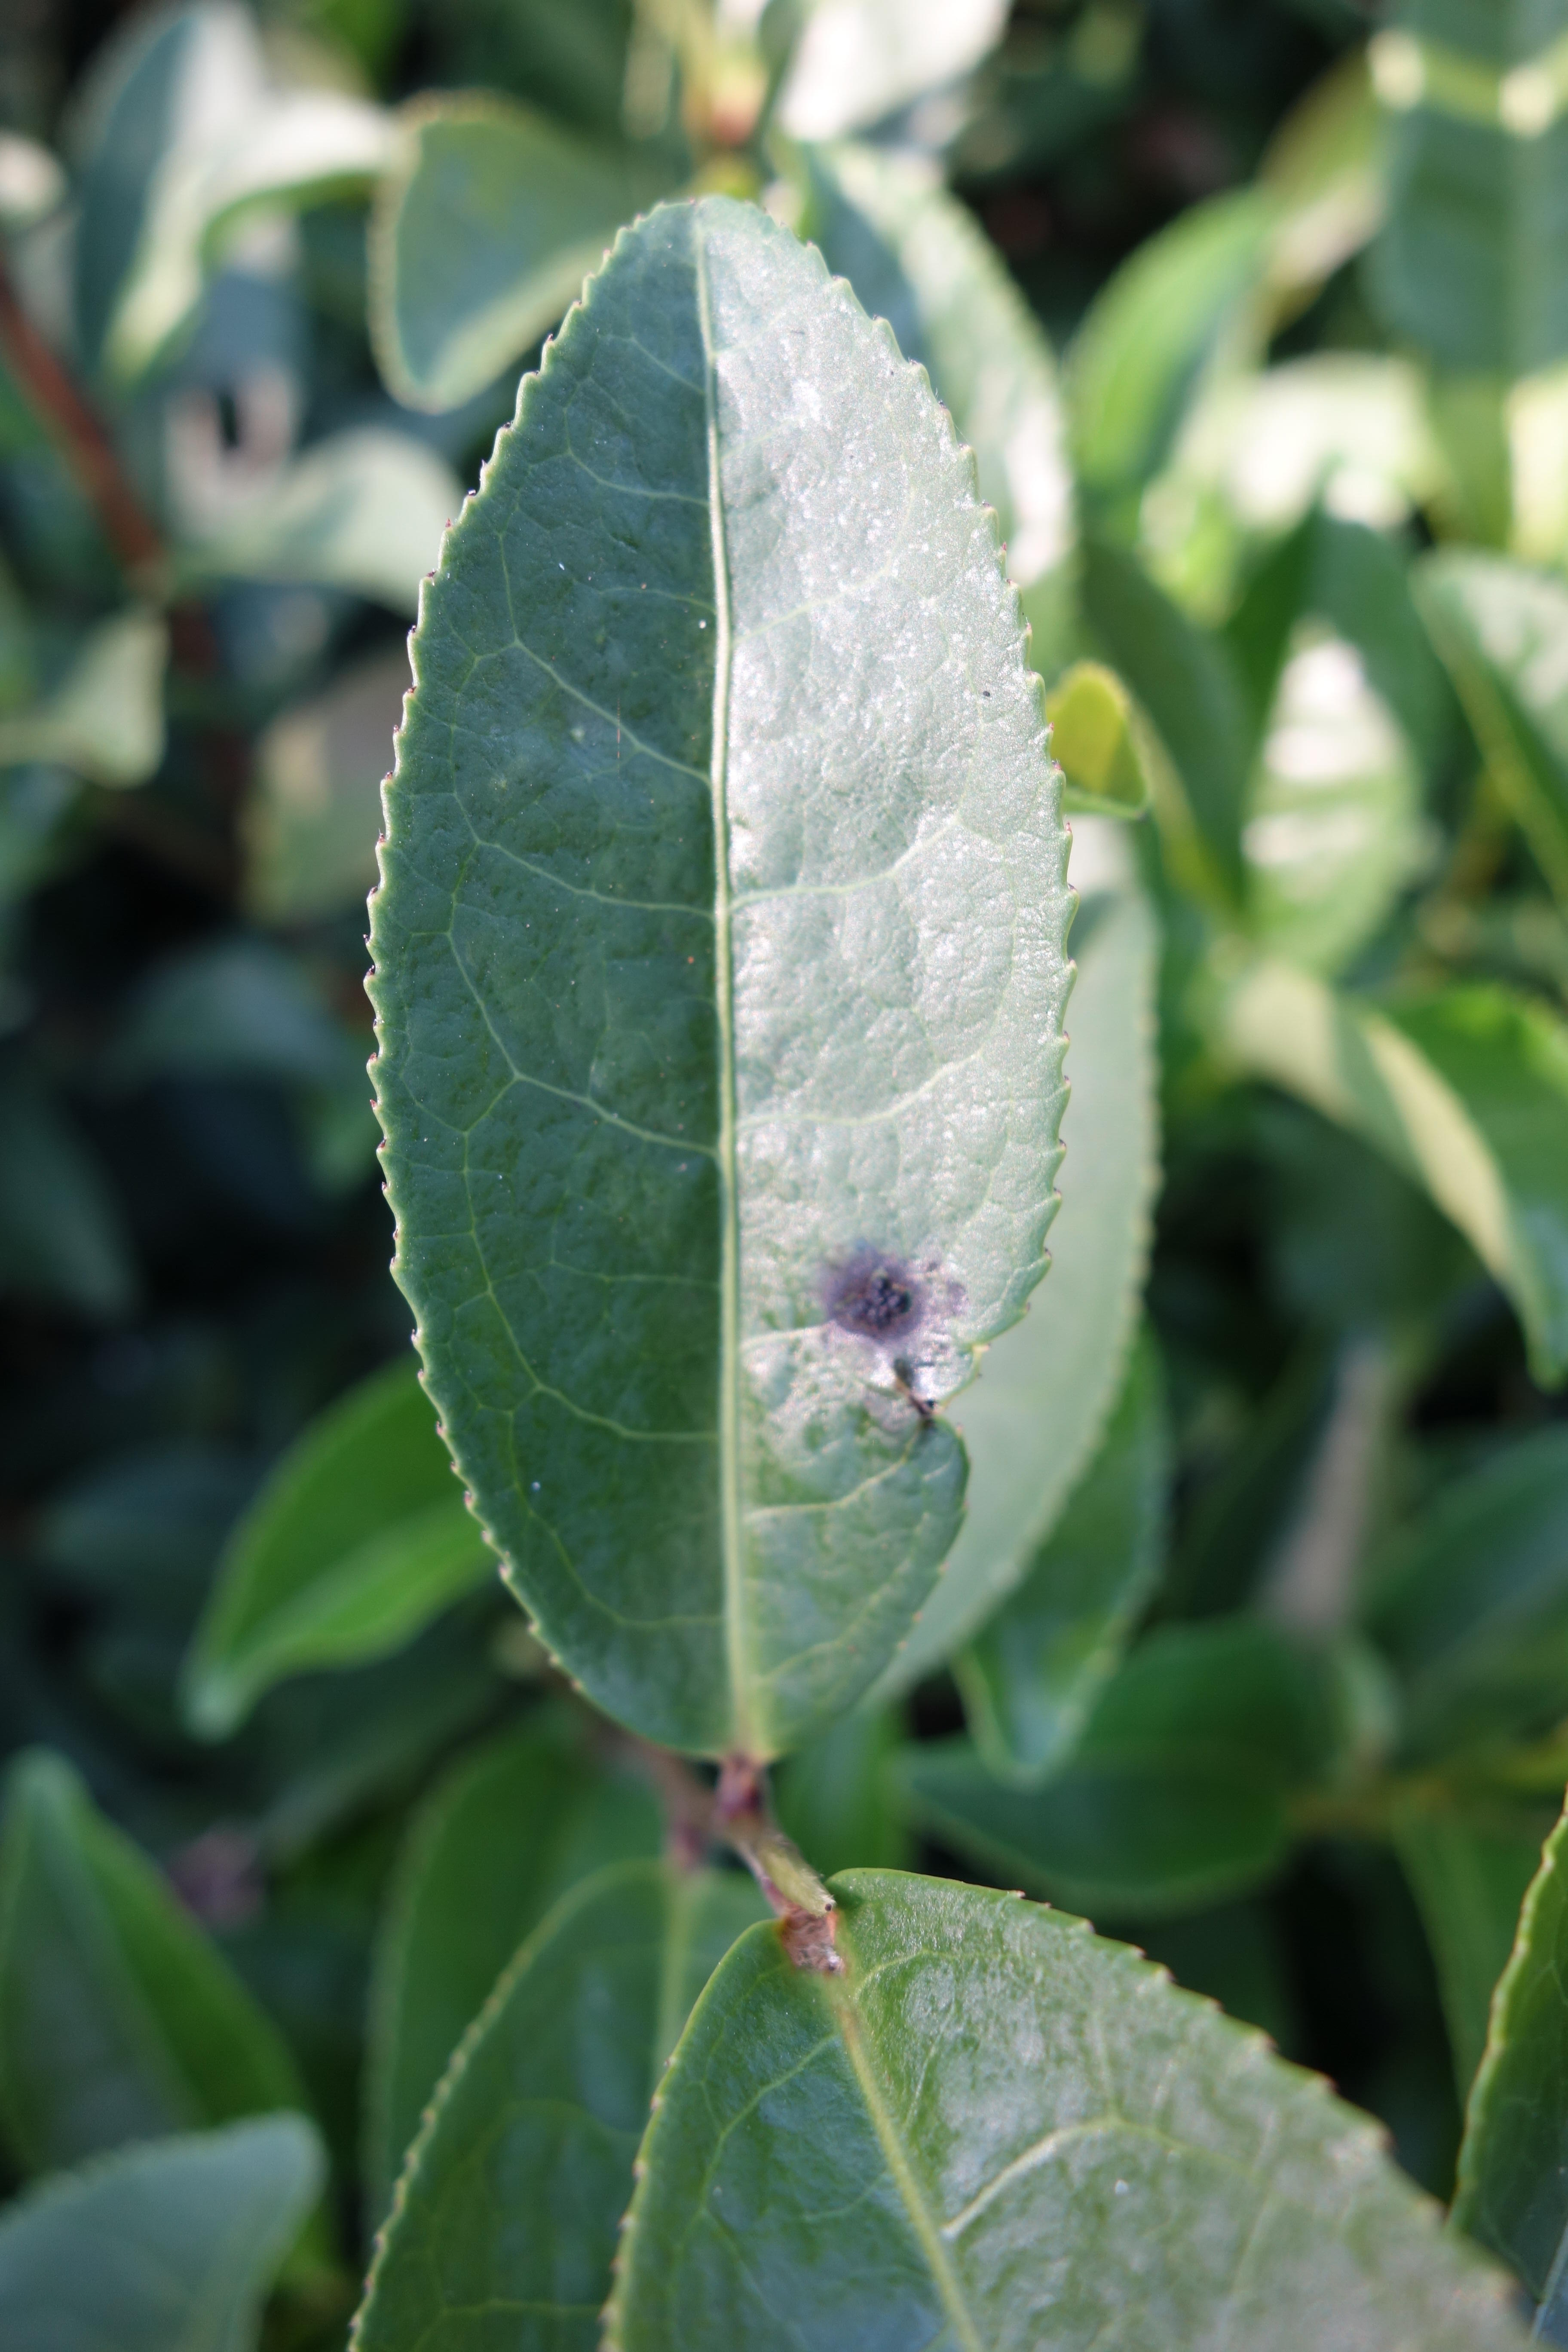tanju_low: (348, 191, 1087, 1802)
